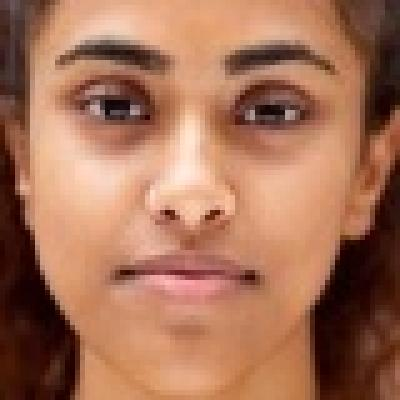netural: (31, 8, 344, 359)
